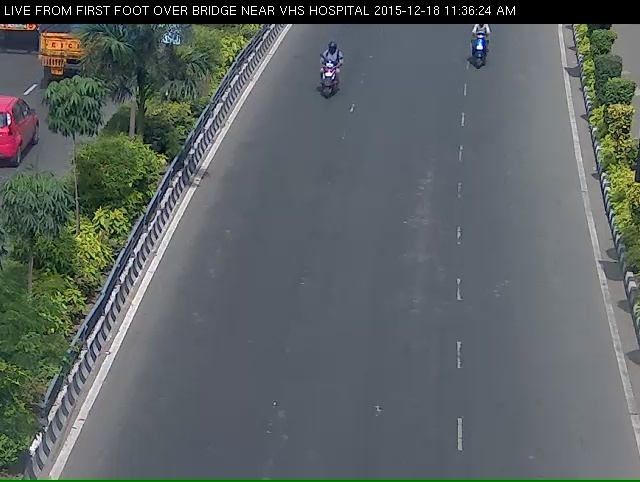Person: (304, 49, 355, 126), (465, 26, 503, 91)
